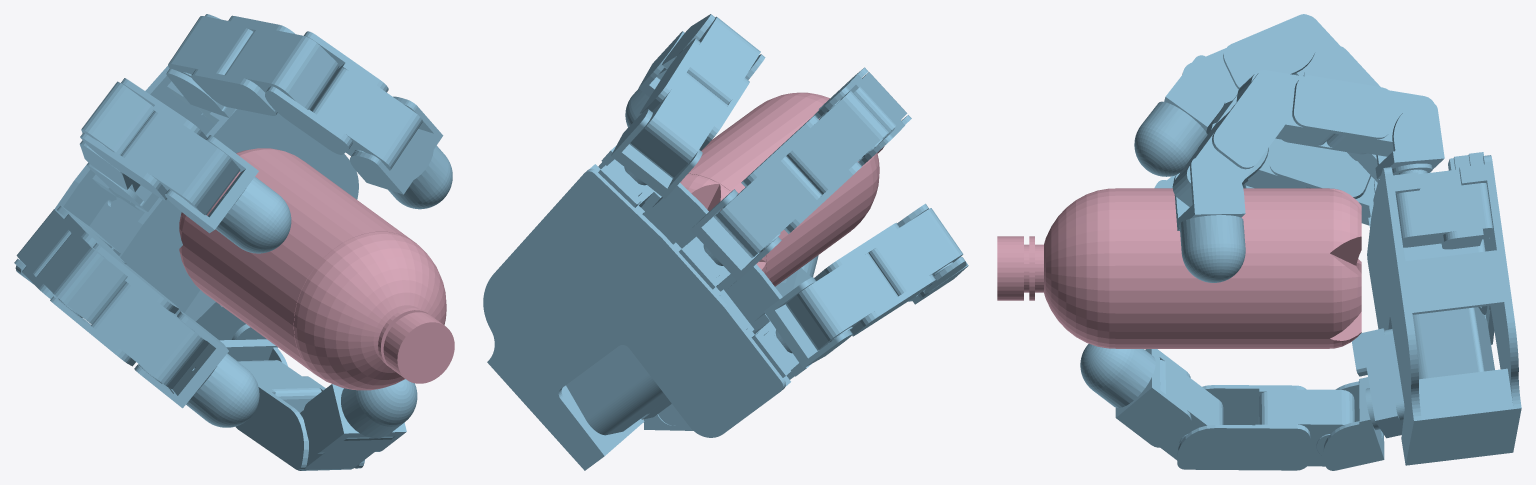
The picture shows the model from 3 angles, left to right: view 1: azimuth 30°, elevation 25°; view 2: azimuth 150°, elevation 25°; view 3: azimuth 270°, elevation 25°; orthographic projection. The views are drawn at different scales.
Visible parts, largest first — view 1: world, water_bottle.stl; view 2: world, water_bottle.stl; view 3: world, water_bottle.stl.
Boxes of the visible parts, <box> form: world: <box>14,14,452,470</box>; water_bottle.stl: <box>179,148,454,390</box>; world: <box>483,14,968,470</box>; water_bottle.stl: <box>680,92,884,286</box>; world: <box>1080,14,1521,470</box>; water_bottle.stl: <box>997,188,1361,348</box>.
Size of the model in its own units: 0.1629 by 0.1645 by 0.1964.
